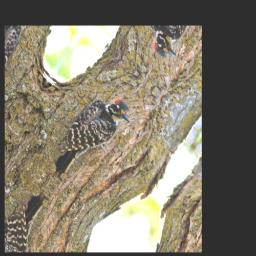Woodpecker: (46, 82, 137, 198)
